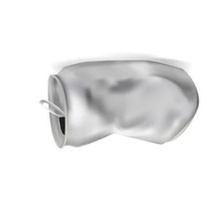can: (32, 54, 203, 154)
